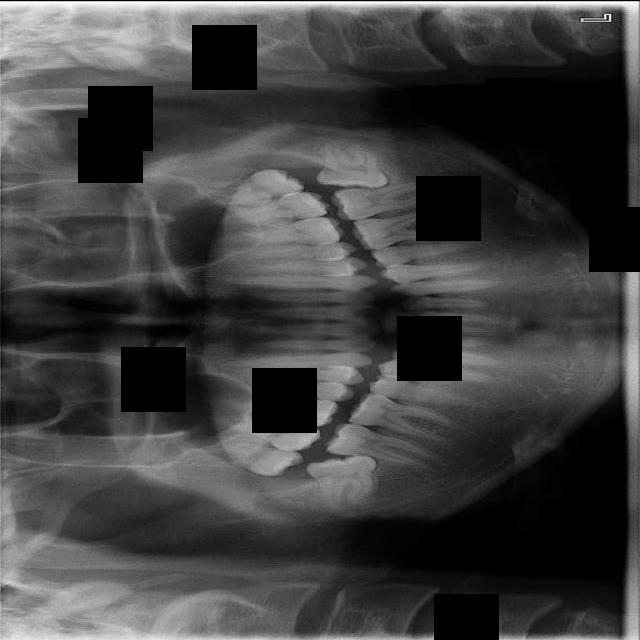3M ESPE Implant: (184, 433, 307, 481)
73: (589, 33, 600, 39)
BioHorizons Implant: (200, 188, 332, 227)
BioLife Implant: (199, 163, 306, 208)
Biomet 3i Implant: (313, 139, 392, 192)
Blue Sky Bio Implant: (329, 178, 448, 222)
Caries: (212, 412, 324, 455)
Implant: (323, 418, 439, 469)
Keystone Dental Implant: (304, 444, 386, 514)
